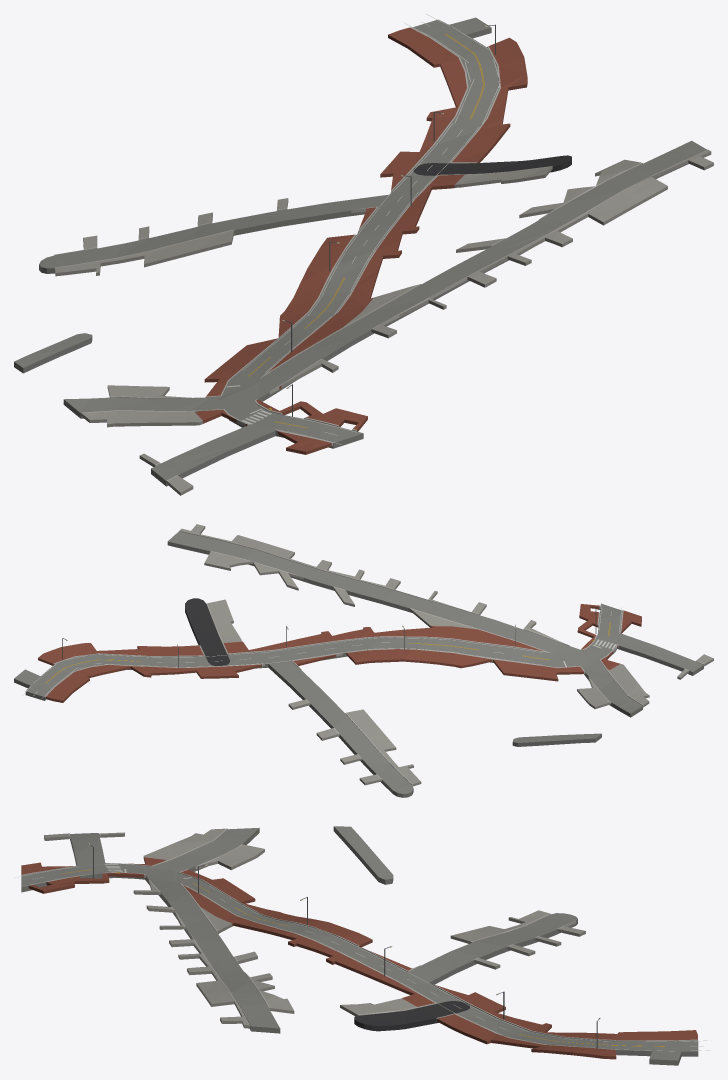
3 renders of one model, top to bottom at view 1: azimuth 30°, elevation 25°; view 2: azimuth 150°, elevation 25°; view 3: azimuth 270°, elevation 25°, orthographic. The views are drawn at different scales.
Size of the model in its own units: 147 by 27.88 by 151.
